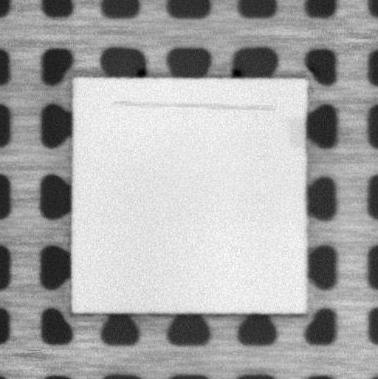DIE_CRACK: (113, 95, 275, 112)
